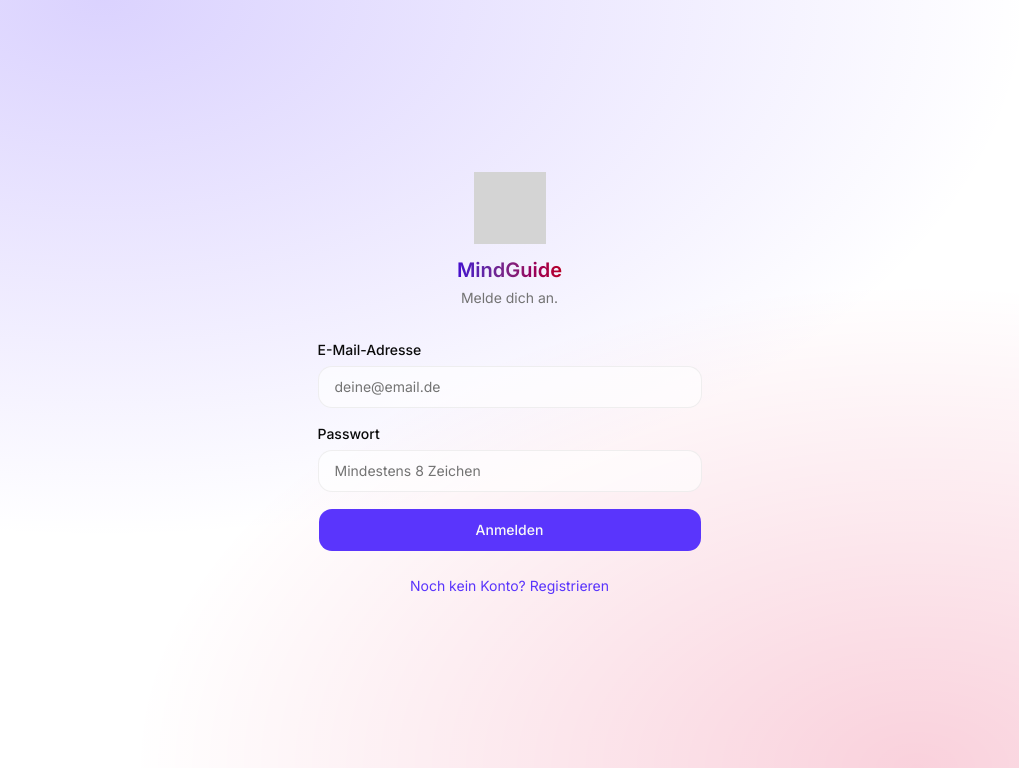
AuthForm — login mode › shows invalid credentials error on auth failure
The width and height of the screenshot is (1024, 768).
Type "bad@example.com" into the field labelled "E-Mail-Adresse".
click(510, 387); type("bad@example.com")  # box [318, 366, 702, 408]
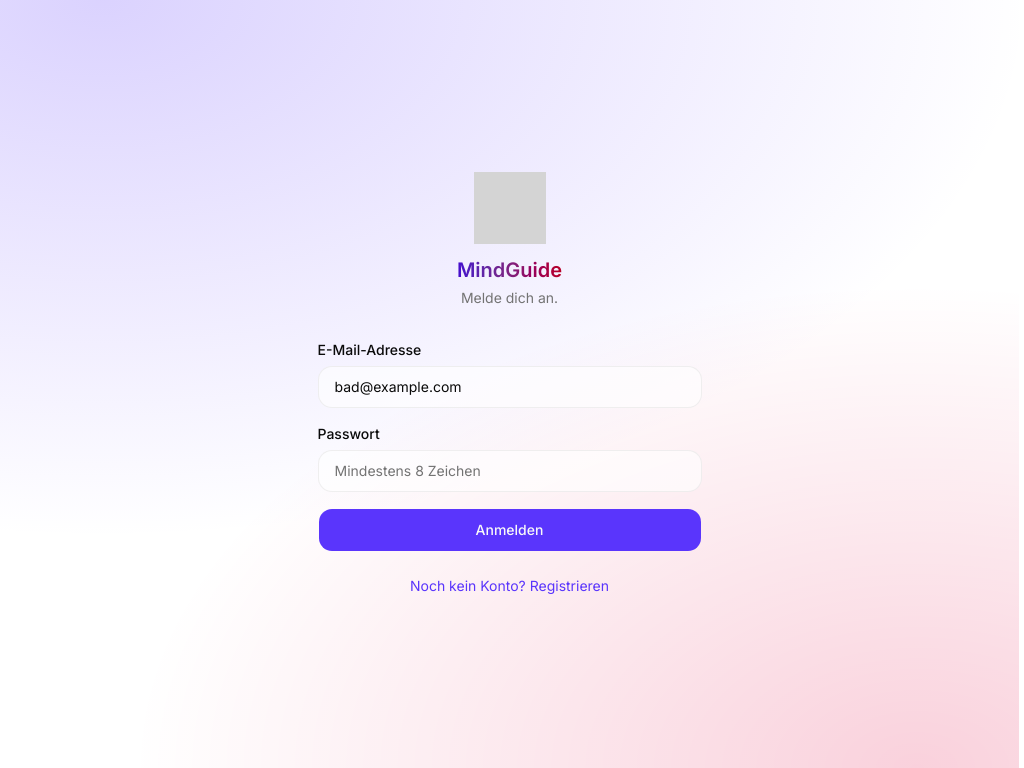
Type "wrongpass" into the password field labelled "Passwort".
click(510, 471); type("wrongpass")  # box [318, 450, 702, 492]
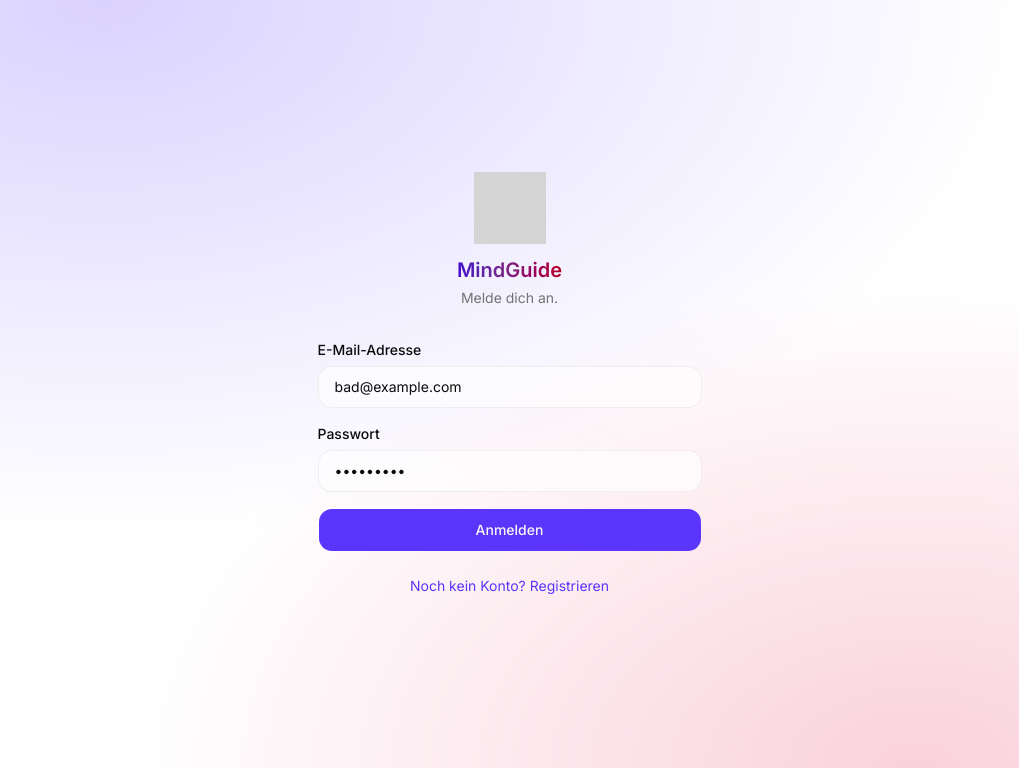
Click the button "Anmelden".
click(510, 530)  # box [318, 508, 702, 552]
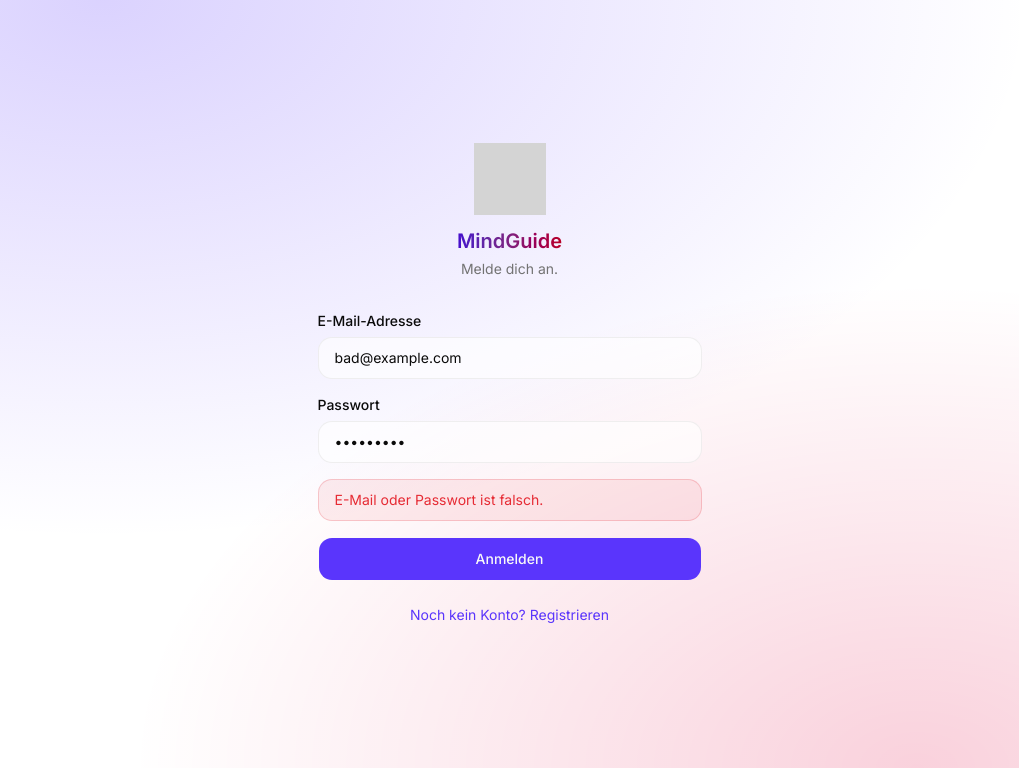
Expected: the text "E-Mail oder Passwort ist falsch." is shown, [318, 479, 702, 521]
